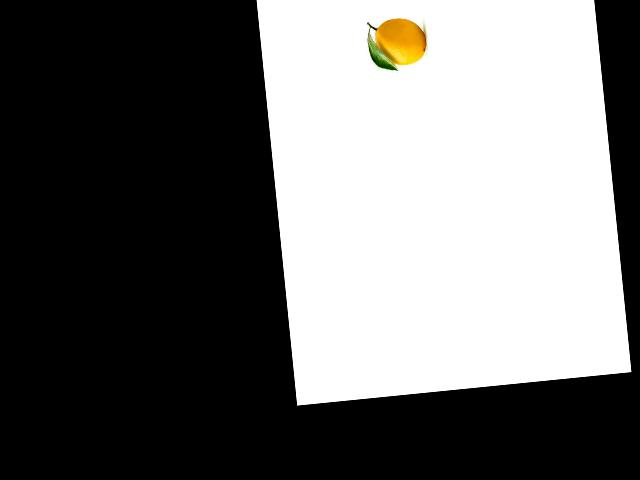lemon: (366, 13, 429, 71)
